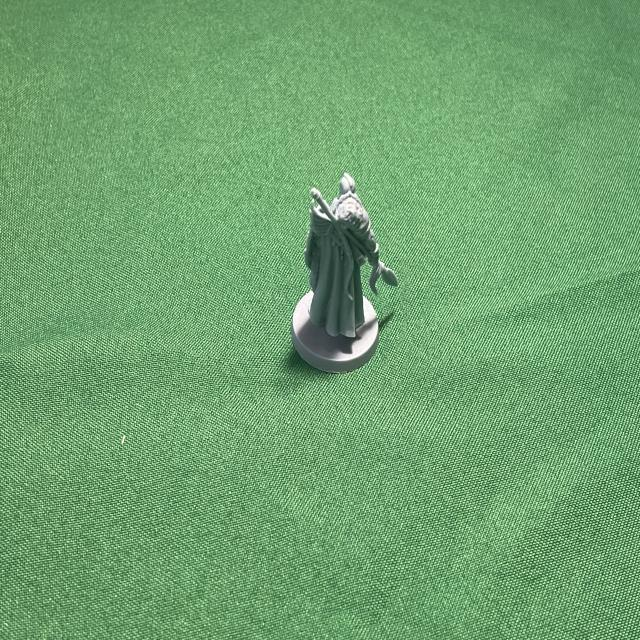isis_follower: (290, 172, 394, 374)
